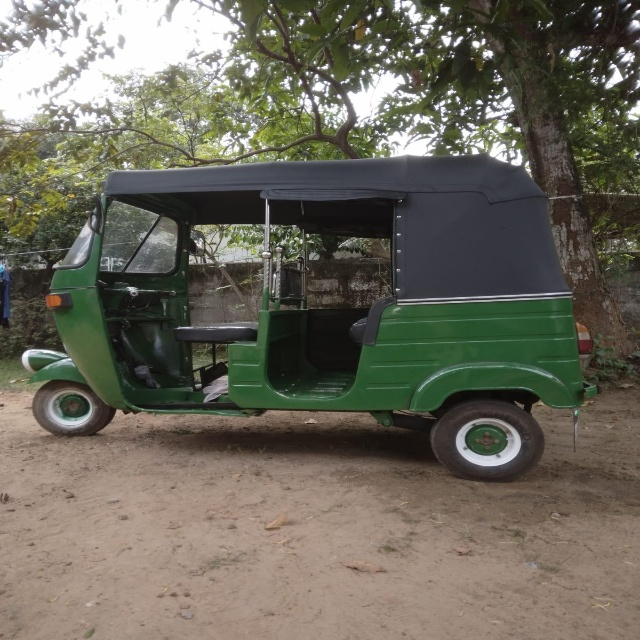Motorcycle: (17, 153, 599, 481)
